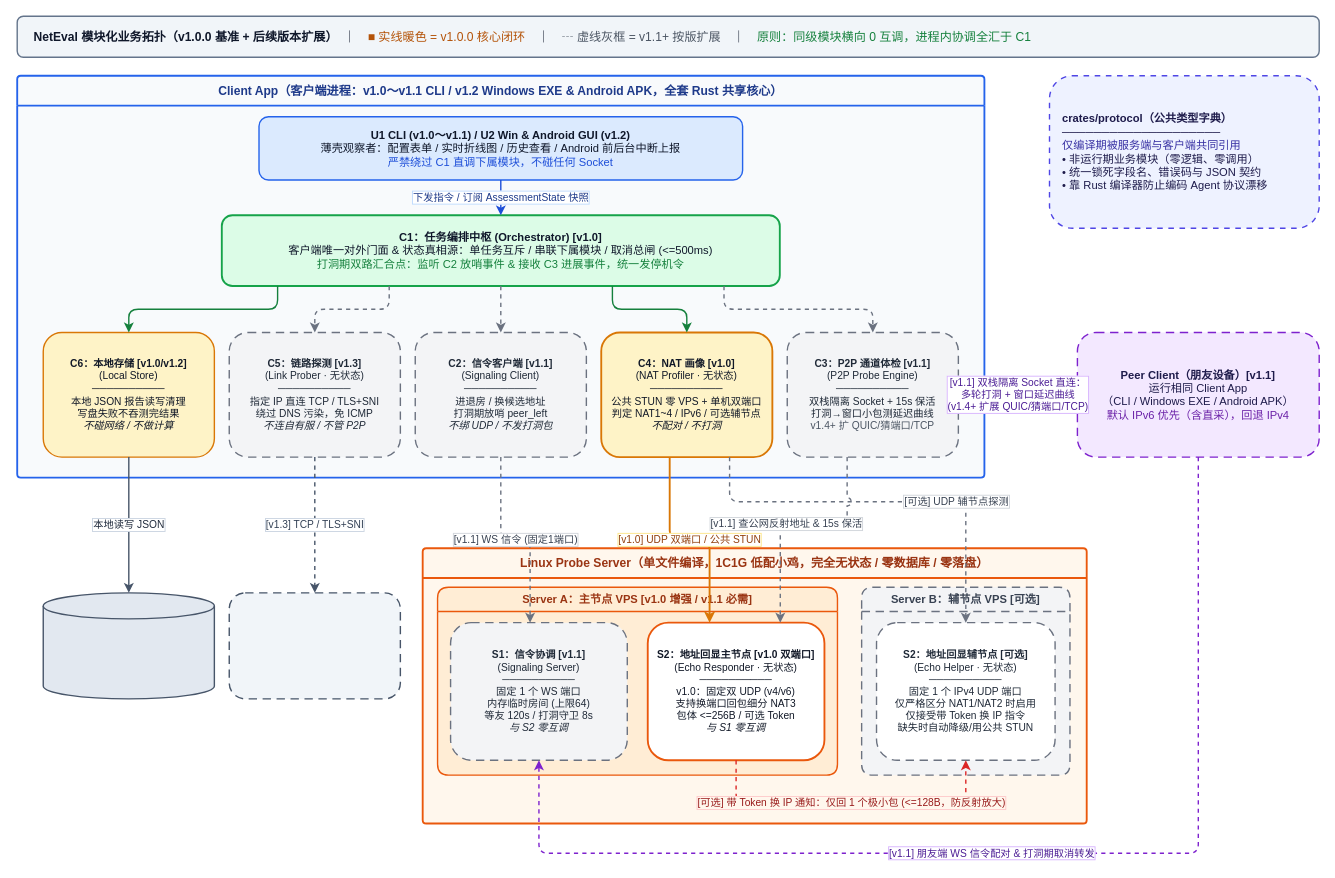
This 1335x878 diagram has some shape labels left out. The shapes that lost their labels are listed below. From the top down, each one's centre as x and y in pixels, then its label:
(x=128, y=645): 客户端本地磁盘 JSON 历史报告 (v1.7+ 自定义节点清单)
(x=314, y=645): 目标公网节点 [v1.3] Cloudflare 边缘 IP 自有 VPS / 数据中心 IP Steam 类直连服务节点
